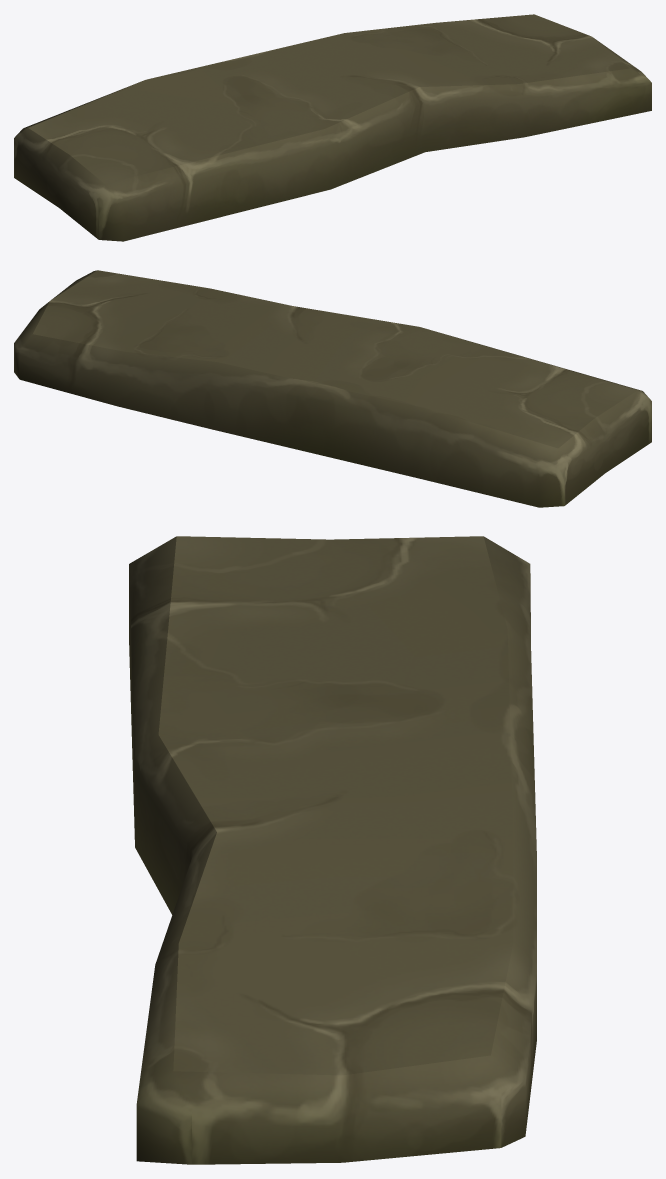
File: Tile_6.FBX
3 renders of one model, top to bottom at view 1: azimuth 30°, elevation 25°; view 2: azimuth 150°, elevation 25°; view 3: azimuth 270°, elevation 25°, orthographic. The views are drawn at different scales.
Visible parts, largest first — view 1: Tile_6; view 2: Tile_6; view 3: Tile_6.
Part boxes in pixels (bbox=[...]): Tile_6: bbox=[14, 14, 651, 241]; Tile_6: bbox=[14, 270, 651, 507]; Tile_6: bbox=[129, 536, 536, 1164].
Size of what is drawn, in the model's own units: 273 by 87.48 by 30.32.
